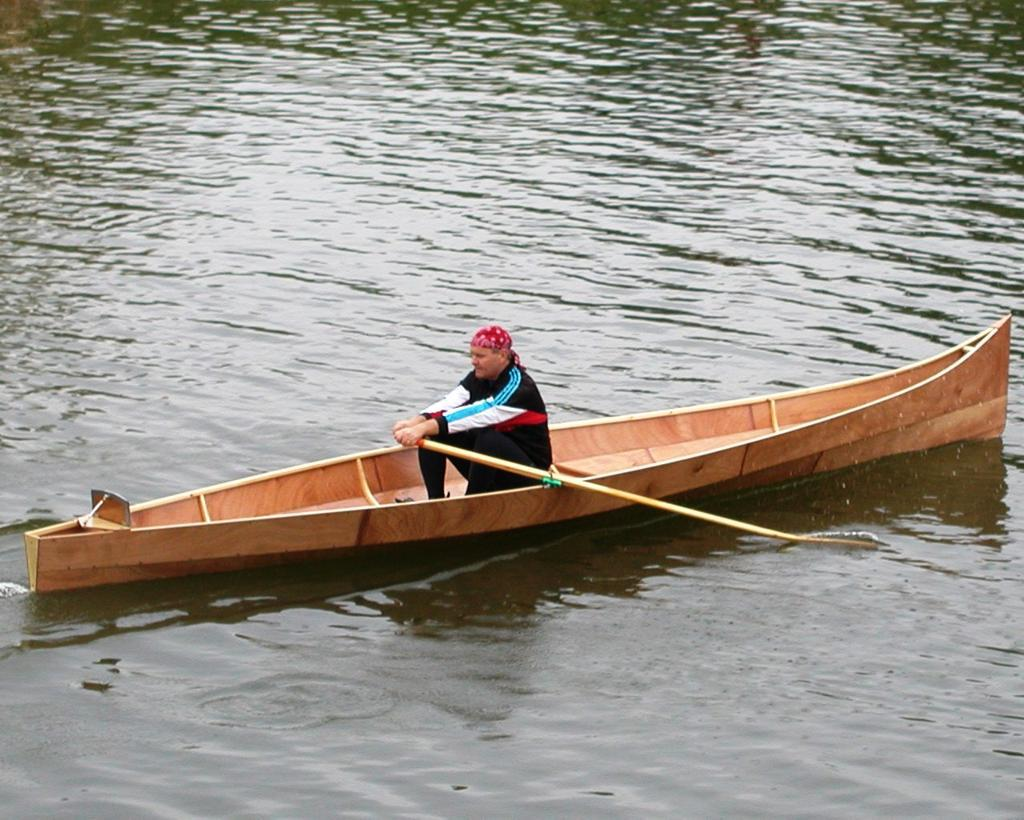face: (471, 342, 499, 380)
